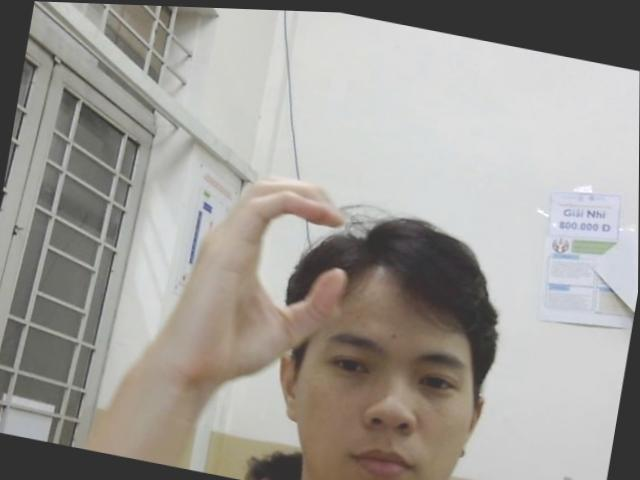C: (161, 154, 362, 396)
